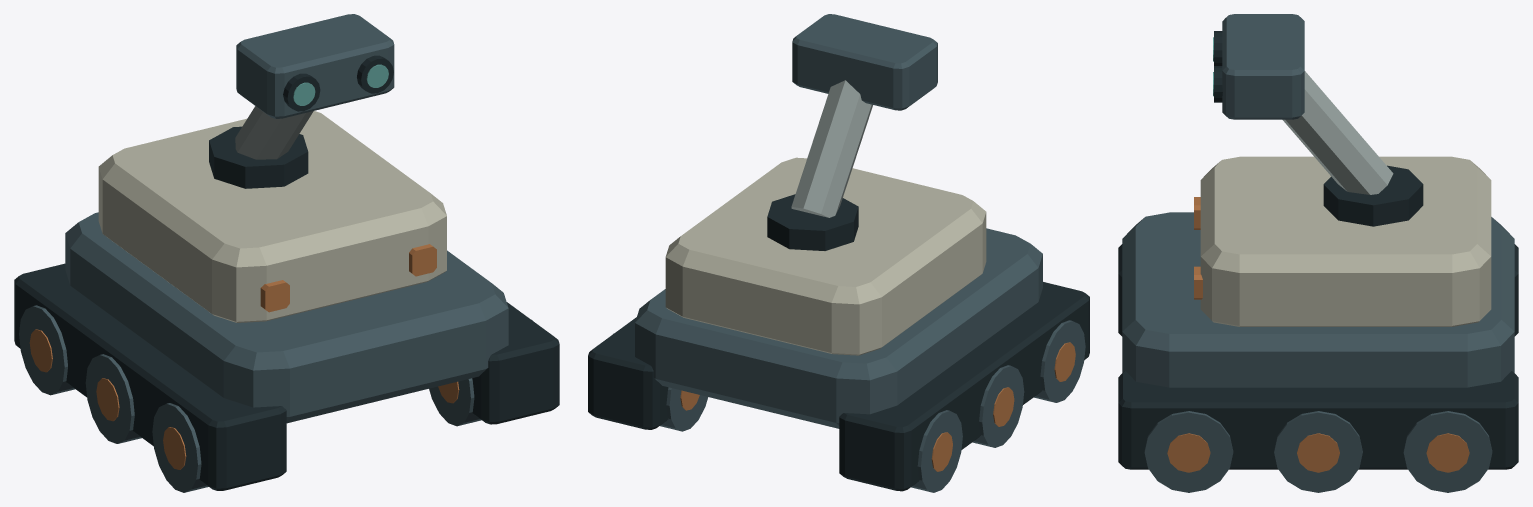
The model's file is RX-04_inspection_crawler.glb.
3 renders of one model, left to right at view 1: azimuth 30°, elevation 25°; view 2: azimuth 150°, elevation 25°; view 3: azimuth 270°, elevation 25°, orthographic. The views are drawn at different scales.
Parts seen in each view (by area): view 1: RX-04_inspection_crawler; view 2: RX-04_inspection_crawler; view 3: RX-04_inspection_crawler.
Boxes of the visible parts, x1,y1,x2,y2 form: RX-04_inspection_crawler: (14,14,559,492); RX-04_inspection_crawler: (588,14,1089,492); RX-04_inspection_crawler: (1118,14,1518,492).
Size of the model in its own units: 1.03 by 1.03 by 1.02.
